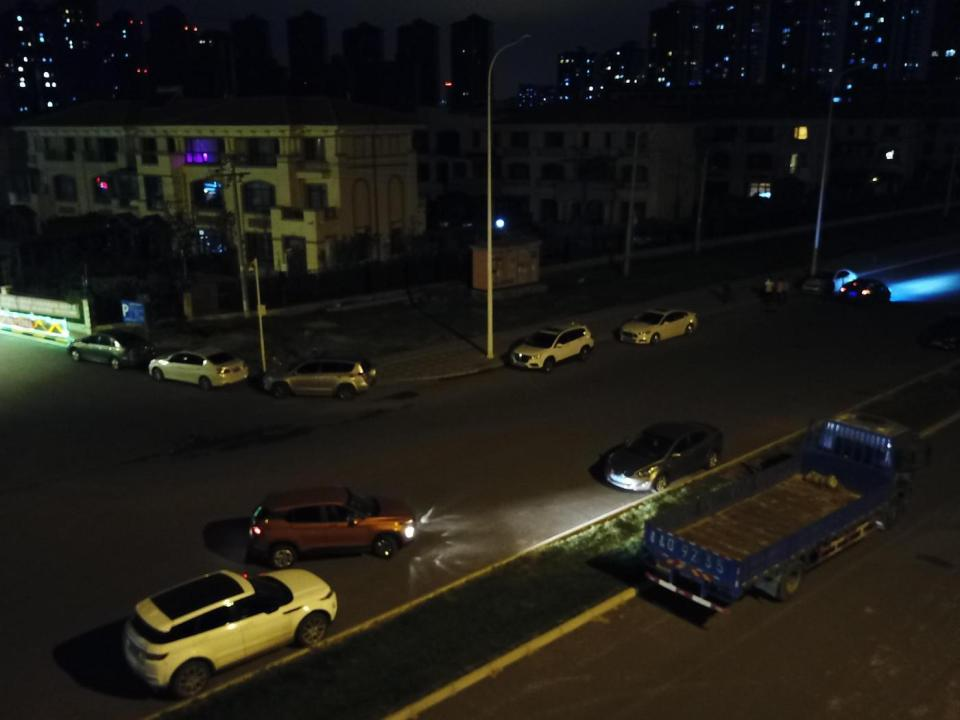car: (120, 568, 338, 699), (250, 485, 417, 568), (604, 420, 725, 493), (262, 355, 378, 401), (148, 346, 249, 390), (510, 322, 595, 373), (66, 329, 156, 371), (620, 306, 699, 346), (802, 268, 860, 295), (840, 279, 892, 303)
truck: (643, 414, 917, 614)
